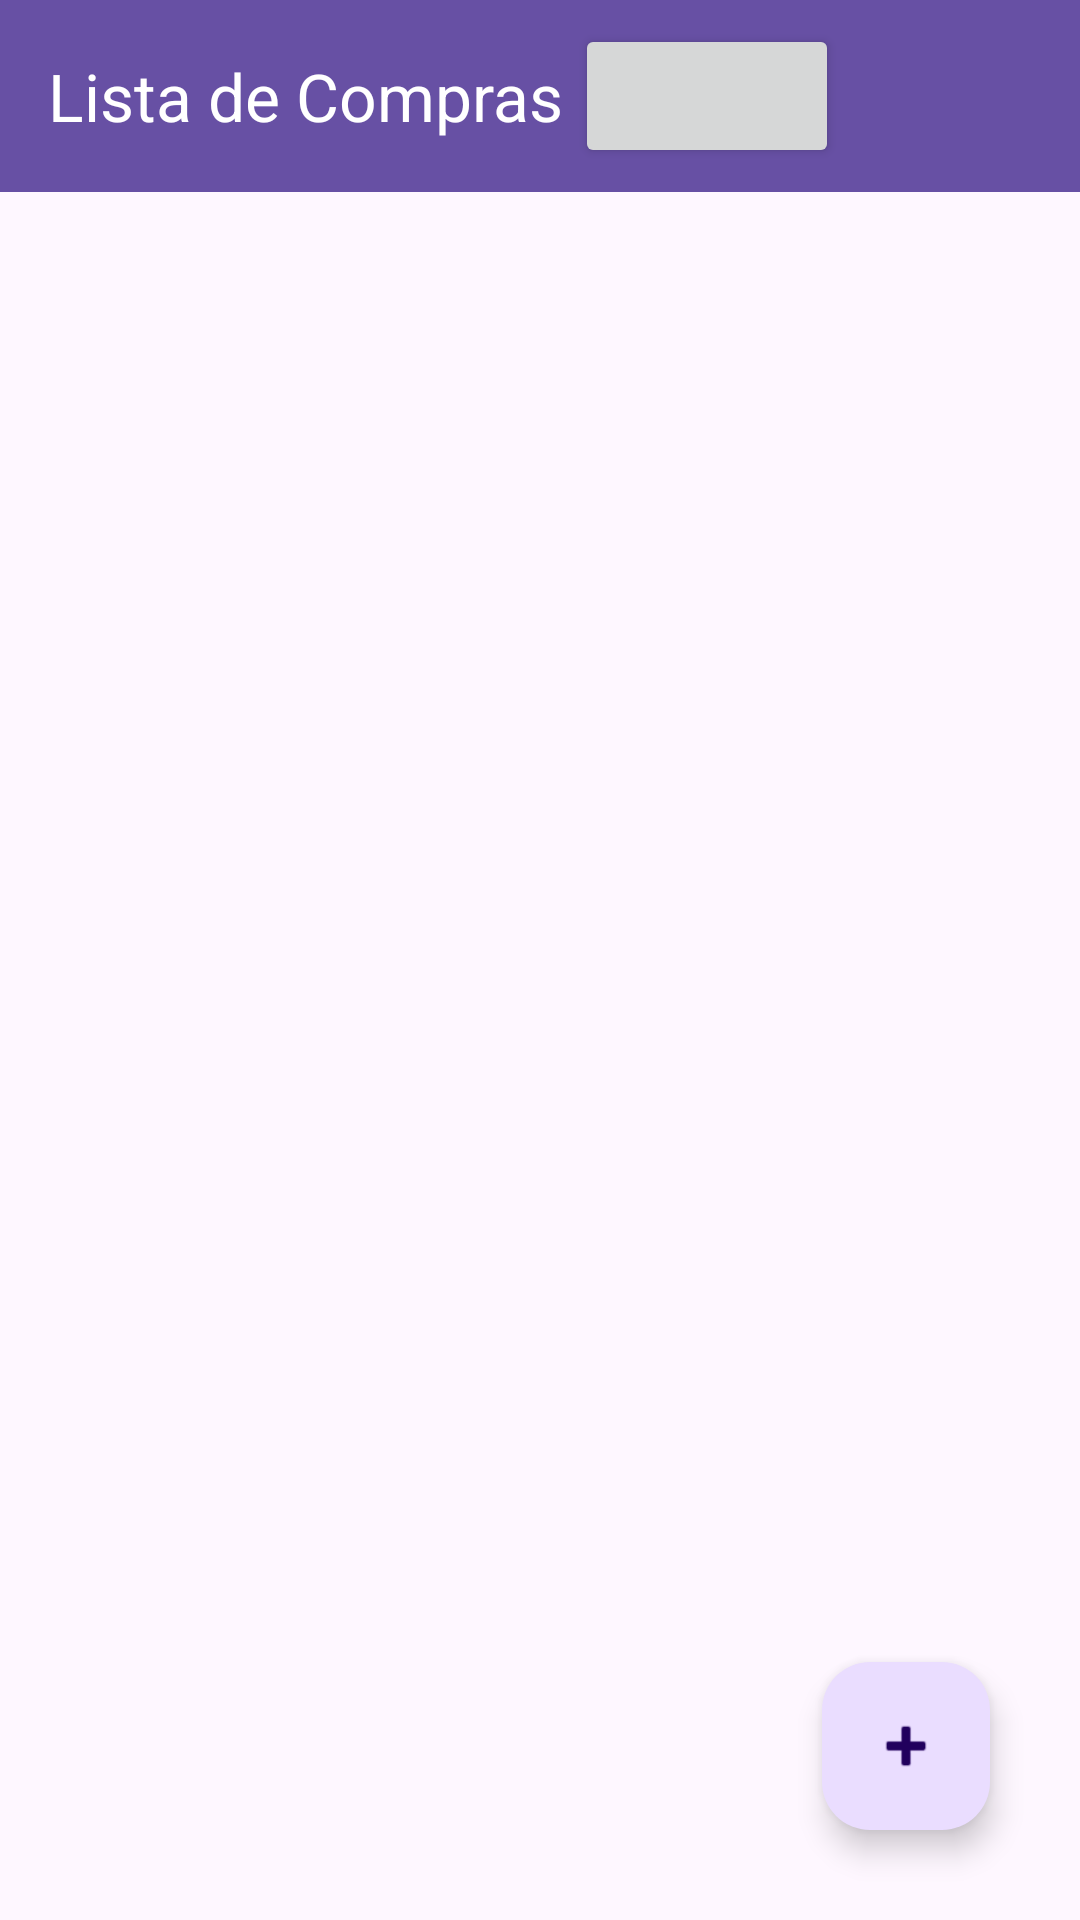

Screen size 1080px×1920px. Icon name, then its center in pixels as point (x, y):
Adicionar: point (906, 1746)
